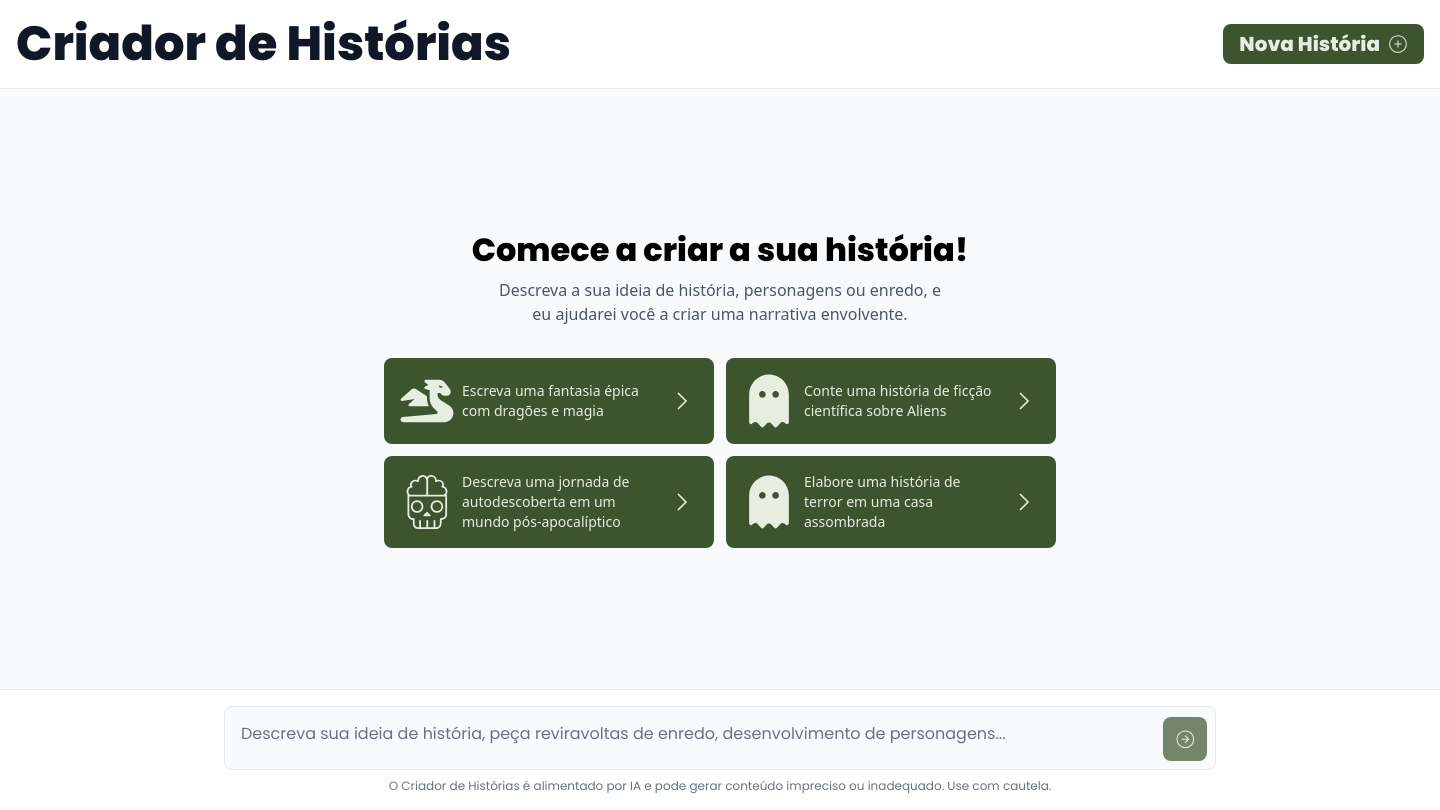
it: CreateStory › deve preencher o input ao clicar em uma sugestão
Note: clica na primeira sugestão
What coordinates should you click on to do the following:
click the button "Escreva uma fantasia épica com dragões e magia"
I would click on:
 (549, 401)
Its box is [384,358,714,444].
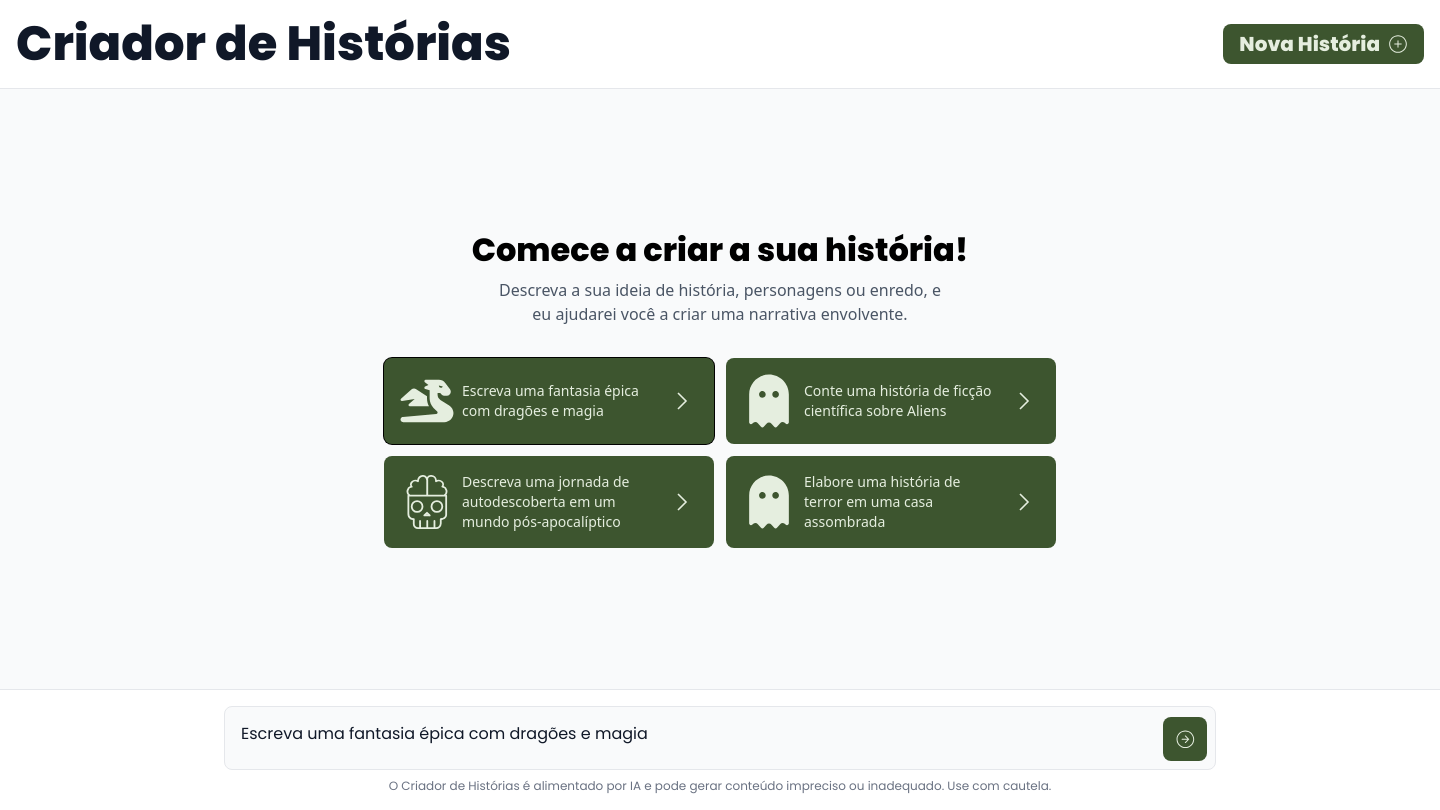
Check: the text box with placeholder "Descreva sua ideia de história" is not empty, box [233,715,1155,755]
